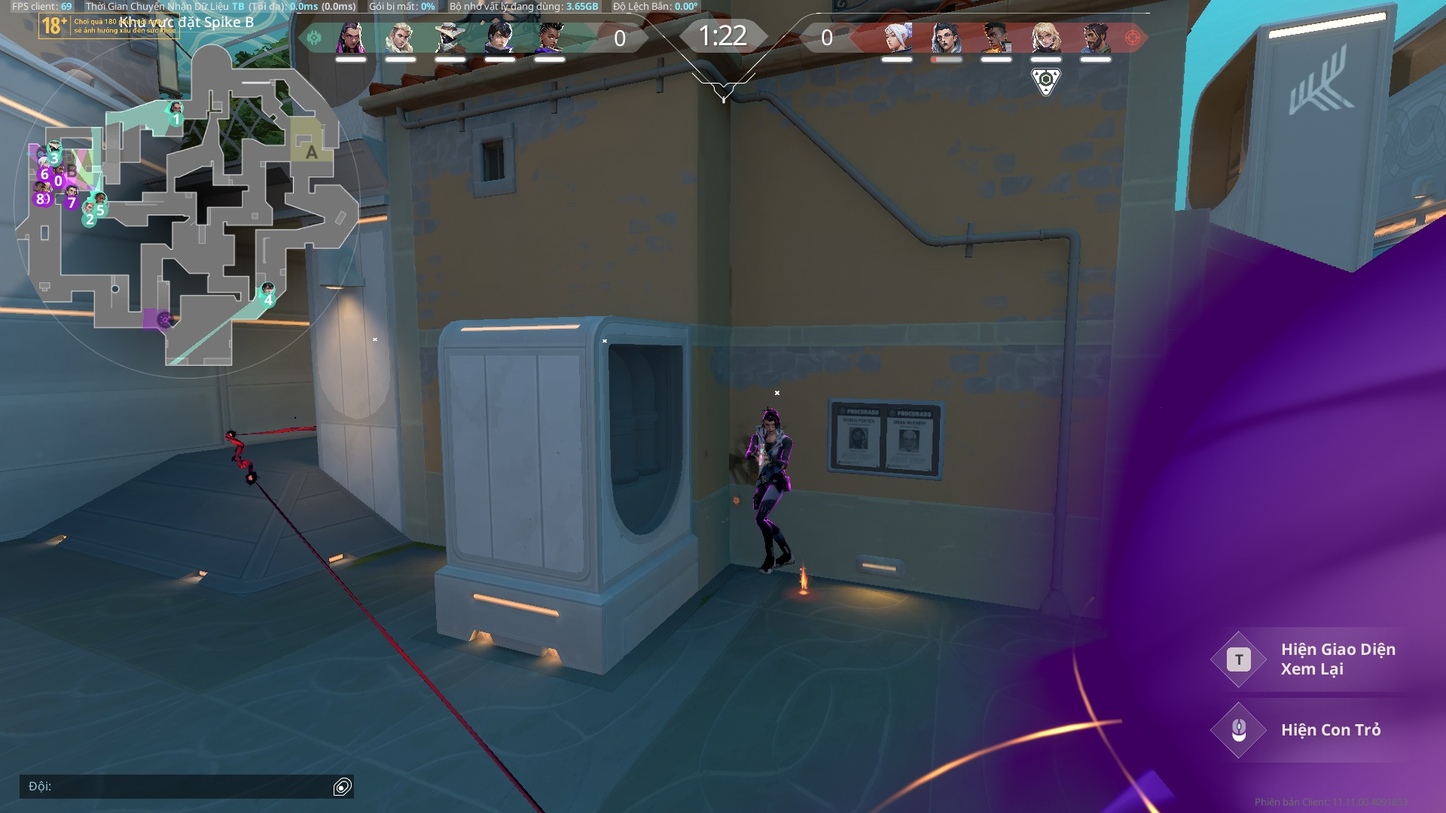body: (752, 429, 792, 473)
head: (761, 408, 781, 433)
